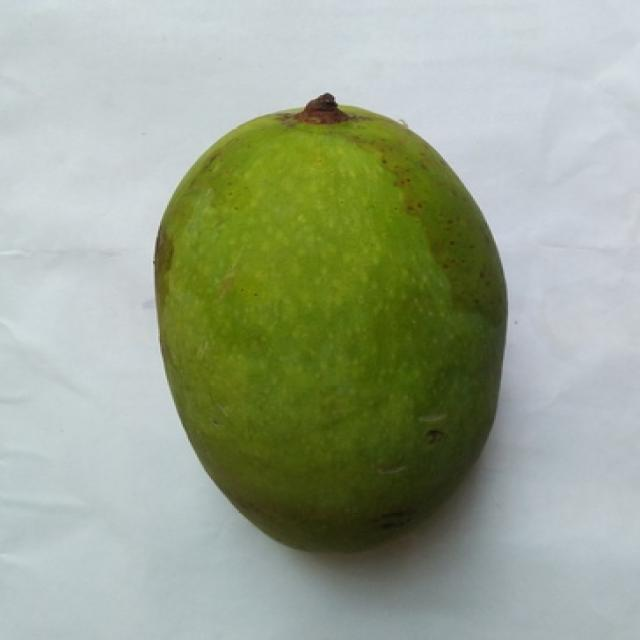Mango: (155, 106, 505, 551)
